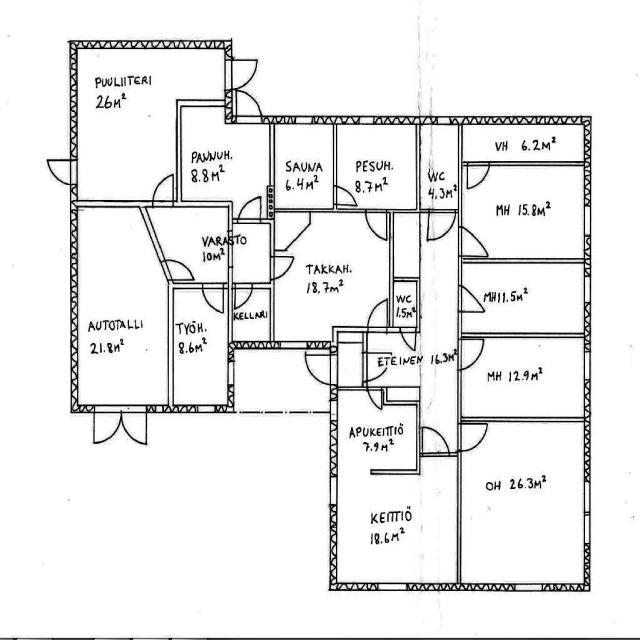door: (92, 408, 127, 446), (302, 348, 333, 385), (228, 56, 260, 90), (120, 409, 148, 446), (454, 283, 486, 315), (458, 419, 489, 452), (459, 225, 490, 258), (457, 336, 486, 370), (233, 88, 263, 120), (428, 208, 457, 241), (364, 207, 391, 241), (419, 425, 449, 455), (463, 161, 492, 191), (151, 172, 176, 205), (236, 193, 263, 223), (45, 157, 75, 184), (366, 296, 390, 328), (202, 282, 226, 313), (170, 256, 198, 282), (332, 183, 360, 208), (270, 251, 294, 280), (232, 282, 254, 310), (400, 326, 420, 354), (366, 386, 386, 411)
window: (454, 282, 482, 315), (579, 496, 594, 546), (454, 368, 466, 422), (580, 343, 594, 386), (580, 266, 594, 309), (325, 472, 341, 508), (579, 478, 594, 516), (580, 201, 594, 239), (330, 134, 340, 186), (512, 580, 546, 594), (455, 254, 467, 288), (378, 582, 409, 592), (225, 360, 236, 388)
zone: (461, 418, 588, 586), (72, 205, 168, 405), (333, 456, 458, 589), (275, 210, 391, 342), (461, 163, 591, 262), (460, 336, 590, 422), (460, 261, 589, 337), (178, 106, 270, 205), (334, 123, 419, 211), (332, 390, 420, 472), (234, 342, 334, 413), (171, 286, 230, 405), (270, 123, 336, 210), (460, 122, 588, 164), (166, 205, 231, 286), (418, 125, 461, 209), (363, 332, 422, 388), (230, 219, 272, 283), (231, 287, 273, 345), (334, 331, 366, 390), (392, 278, 419, 329)
